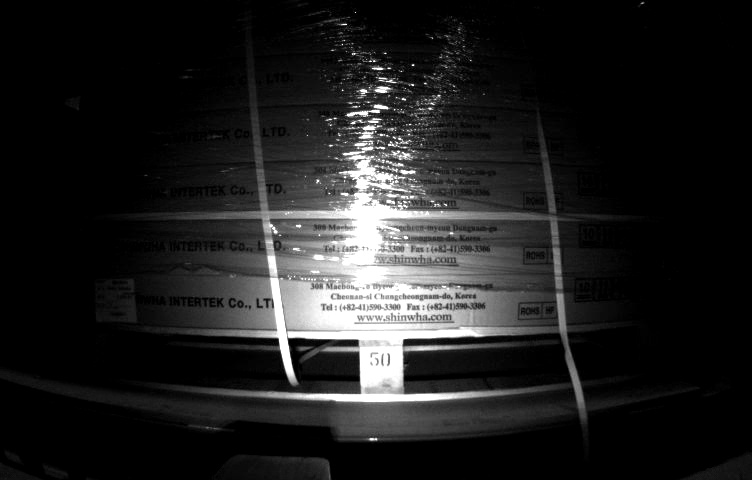True Barcode: (89, 275, 138, 321)
